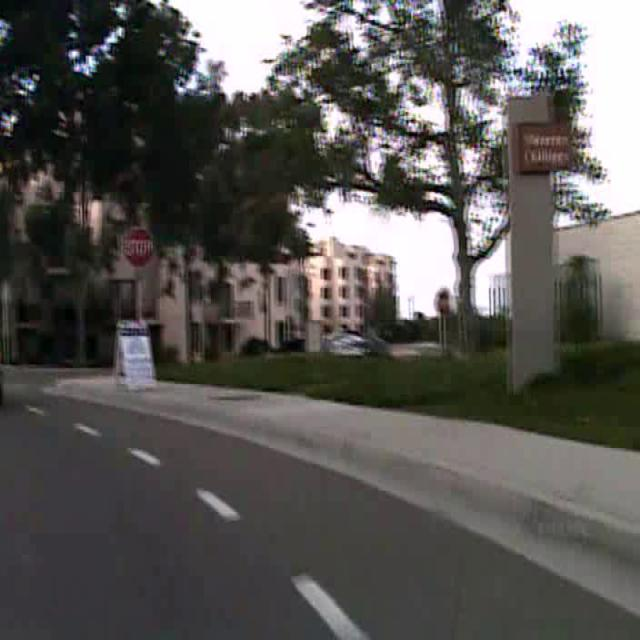stop_sign: (122, 225, 154, 268)
